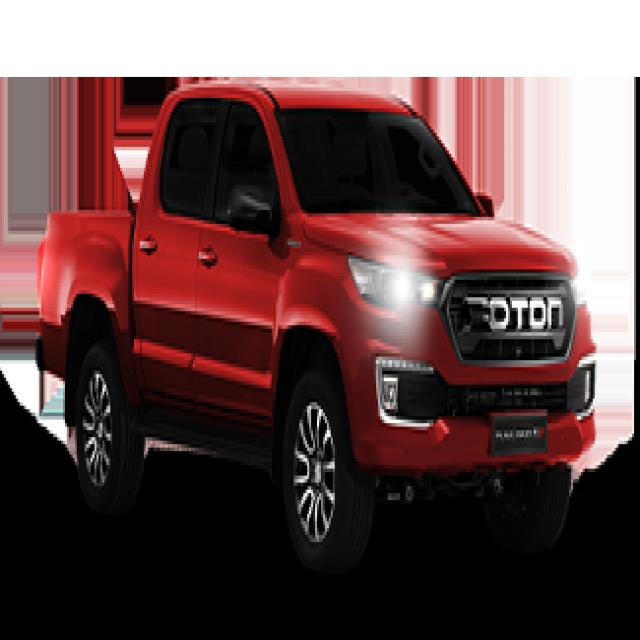CMT: (41, 76, 595, 604)
